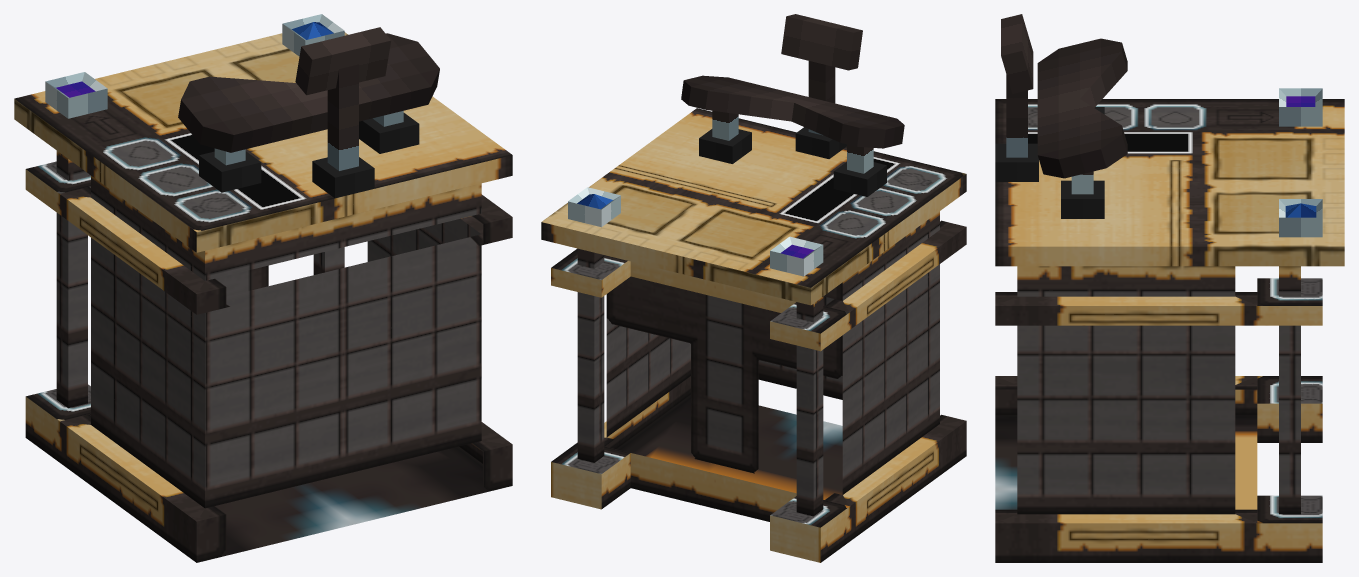
File: station_transcription_inventory.obj
The picture shows the model from 3 angles, left to right: view 1: azimuth 30°, elevation 25°; view 2: azimuth 150°, elevation 25°; view 3: azimuth 270°, elevation 25°; orthographic projection. The views are drawn at different scales.
Parts seen in each view (by area): view 1: DESK_SINGLE_MAIN.006, TRANSCRIPTION_MAIN_Cube.012; view 2: DESK_SINGLE_MAIN.006, TRANSCRIPTION_MAIN_Cube.012; view 3: DESK_SINGLE_MAIN.006, TRANSCRIPTION_MAIN_Cube.012.
Part boxes in pixels (left/top/right/bottom): DESK_SINGLE_MAIN.006: left=14, top=32, right=512, bottom=562; TRANSCRIPTION_MAIN_Cube.012: left=45, top=14, right=439, bottom=198; DESK_SINGLE_MAIN.006: left=541, top=108, right=966, bottom=562; TRANSCRIPTION_MAIN_Cube.012: left=568, top=14, right=904, bottom=276; DESK_SINGLE_MAIN.006: left=995, top=99, right=1344, bottom=562; TRANSCRIPTION_MAIN_Cube.012: left=995, top=14, right=1322, bottom=237.
Size of the model in its own units: 1 by 1.44 by 1.
